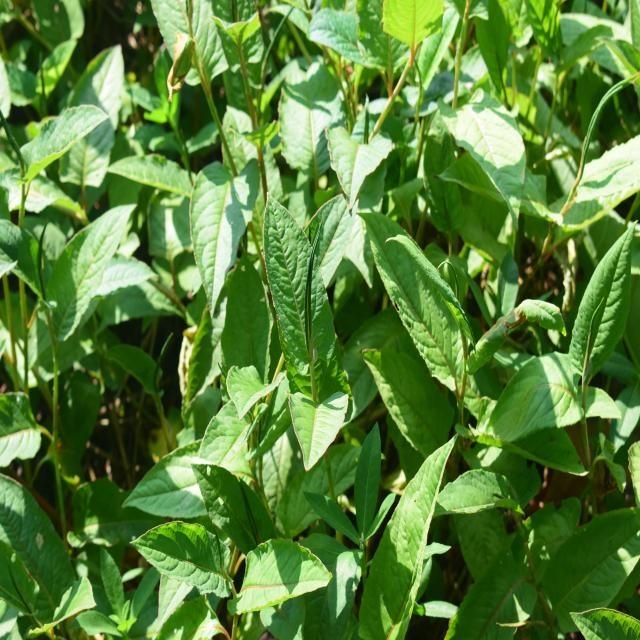Chinese_knotweed: (129, 435, 350, 623), (494, 222, 640, 452), (248, 188, 361, 457)
